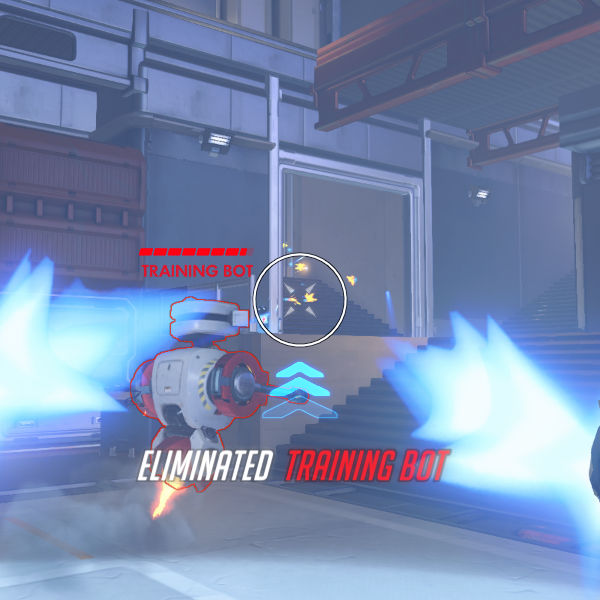hpbar: (138, 247, 254, 257)
